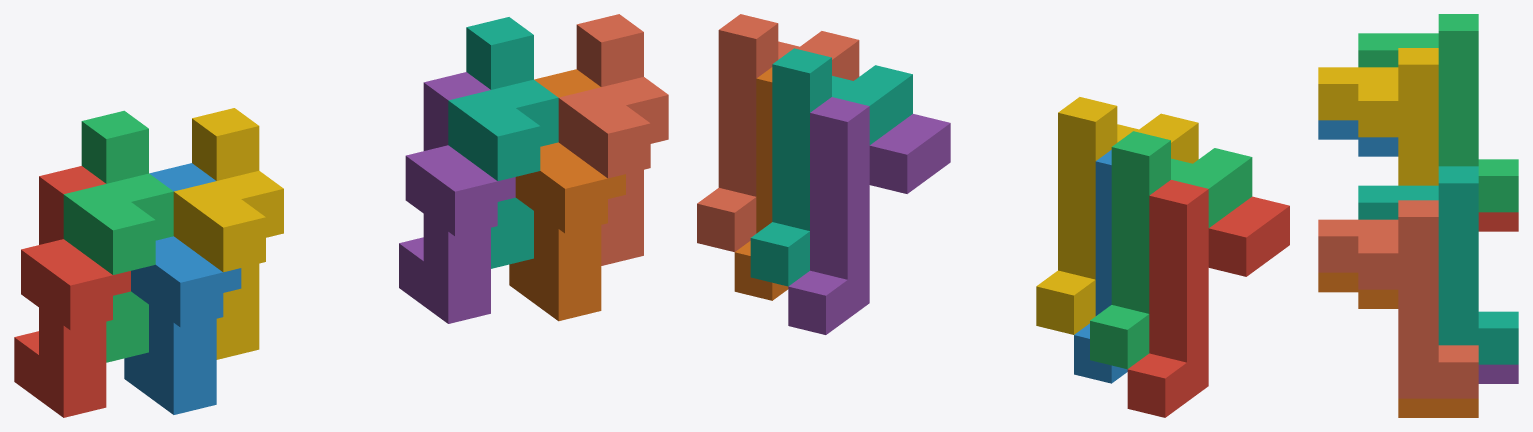
File: tiling.obj
3 views of the same model, side by side, from view 1: azimuth 30°, elevation 25°; view 2: azimuth 150°, elevation 25°; view 3: azimuth 270°, elevation 25° (orthographic). The views are drawn at different scales.
Visible parts, largest first — view 1: copy_1_domain_5, copy_1_domain_1, copy_1_domain_4, copy_1_domain_8, copy_1_domain_7, copy_1_domain_3, copy_1_domain_2, copy_1_domain_6; view 2: copy_1_domain_1, copy_1_domain_5, copy_1_domain_3, copy_1_domain_7, copy_1_domain_8, copy_1_domain_4, copy_1_domain_6, copy_1_domain_2; view 3: copy_1_domain_8, copy_1_domain_7, copy_1_domain_4, copy_1_domain_3, copy_1_domain_6, copy_1_domain_2, copy_1_domain_1, copy_1_domain_5.
Boxes of the visible parts, <box> form: copy_1_domain_5: <box>399,72,515,323</box>; copy_1_domain_1: <box>14,166,130,417</box>; copy_1_domain_4: <box>173,108,283,359</box>; copy_1_domain_8: <box>558,14,668,265</box>; copy_1_domain_7: <box>448,17,558,268</box>; copy_1_domain_3: <box>63,110,173,362</box>; copy_1_domain_2: <box>124,163,241,414</box>; copy_1_domain_6: <box>509,69,625,321</box>; copy_1_domain_1: <box>1127,180,1289,417</box>; copy_1_domain_5: <box>788,97,950,334</box>; copy_1_domain_3: <box>1090,131,1252,369</box>; copy_1_domain_7: <box>750,48,912,286</box>; copy_1_domain_8: <box>697,14,859,252</box>; copy_1_domain_4: <box>1036,97,1198,334</box>; copy_1_domain_6: <box>734,67,788,300</box>; copy_1_domain_2: <box>1074,150,1127,383</box>; copy_1_domain_8: <box>1318,200,1478,398</box>; copy_1_domain_7: <box>1358,166,1518,364</box>; copy_1_domain_4: <box>1318,48,1438,185</box>; copy_1_domain_3: <box>1358,14,1518,212</box>; copy_1_domain_6: <box>1318,272,1478,417</box>; copy_1_domain_2: <box>1318,120,1398,156</box>; copy_1_domain_1: <box>1478,212,1518,231</box>; copy_1_domain_5: <box>1478,364,1518,383</box>.
Bounding box in the file's own units: 14 × 6 × 5.
